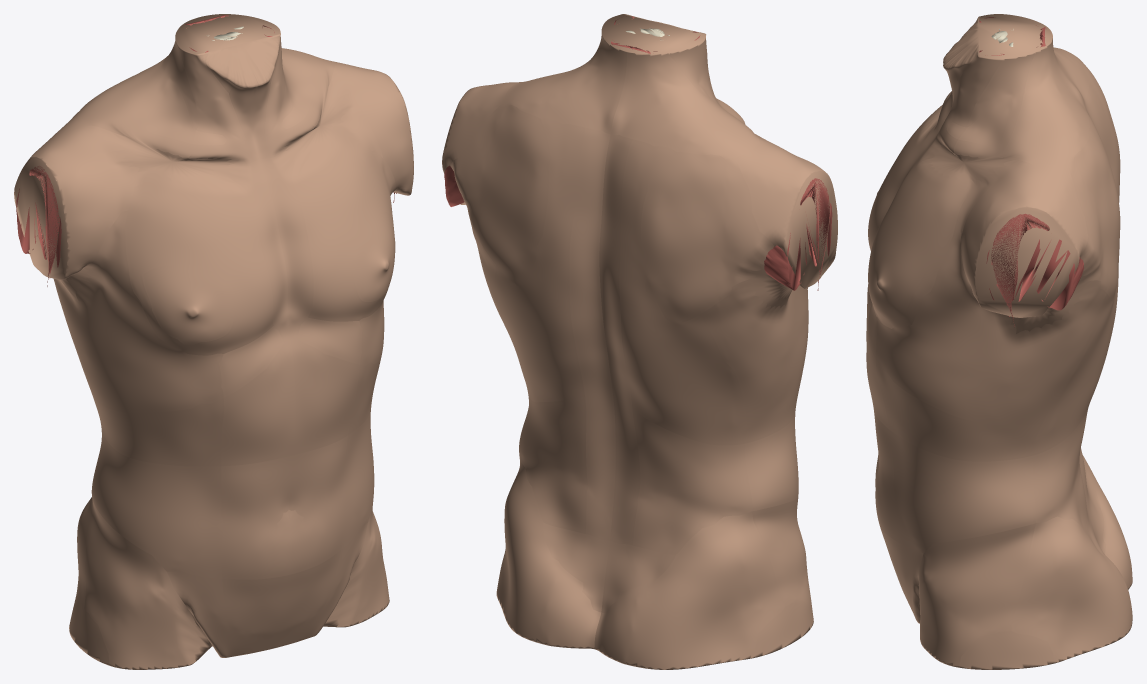
File: torso.glb
3 views of the same model, side by side, from view 1: azimuth 30°, elevation 25°; view 2: azimuth 150°, elevation 25°; view 3: azimuth 270°, elevation 25° (orthographic). The views are drawn at different scales.
Parts seen in each view (by area): view 1: Skin, Acromial part of deltoid muscle.r, Scapular spinal part of deltoid muscle.r; view 2: Skin, Scapular spinal part of deltoid muscle.r, Acromial part of deltoid muscle.r; view 3: Skin, Acromial part of deltoid muscle.l, Scapular spinal part of deltoid muscle.l.
Boxes of the visible parts, x1,y1,x2,y2 form: Skin: (14,14,413,669); Acromial part of deltoid muscle.r: (29,166,59,286); Scapular spinal part of deltoid muscle.r: (16,188,46,259); Skin: (442,14,837,669); Scapular spinal part of deltoid muscle.r: (764,224,817,290); Acromial part of deltoid muscle.r: (800,178,829,290); Skin: (866,14,1132,669); Acromial part of deltoid muscle.l: (991,213,1049,326); Scapular spinal part of deltoid muscle.l: (1015,239,1083,310).
Bounding box in the file's own units: 0.41 × 0.655 × 0.2798.
